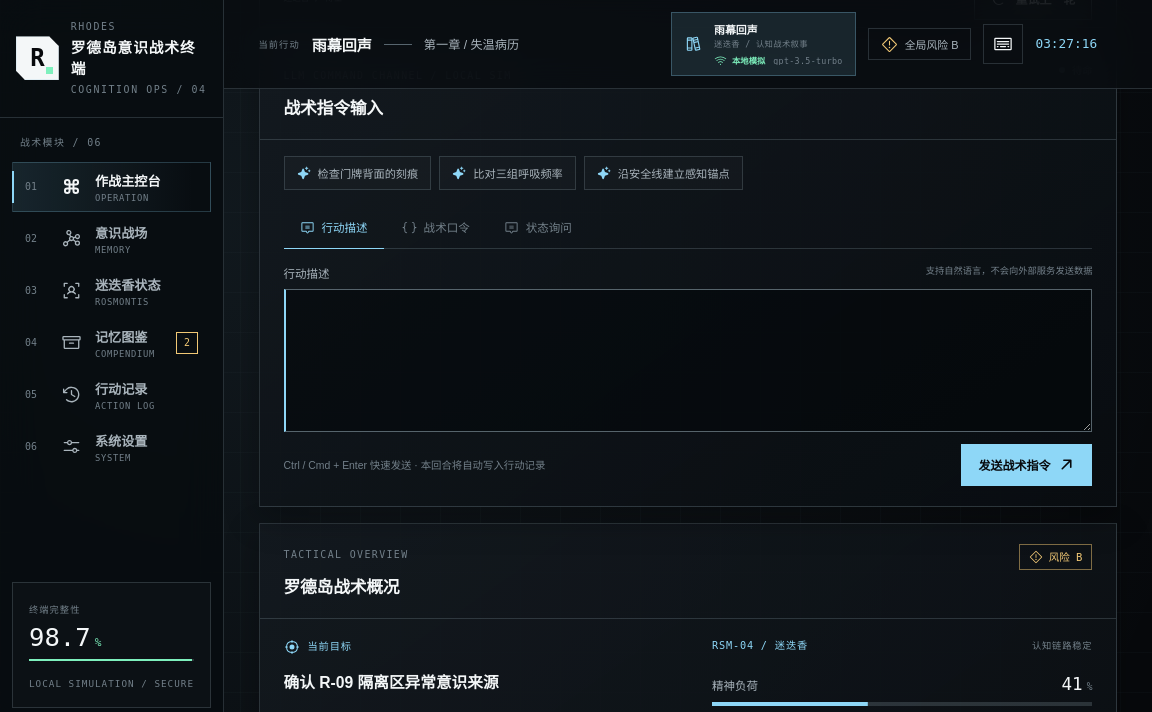
Test: executes a recognized local command and recovers from an unknown command without guessing
The image size is (1152, 712).
(page scrolled)
Type "命令巨剑进入守望阵位" into the text box named "战术指令" at (688,361), box [284, 289, 1092, 432]
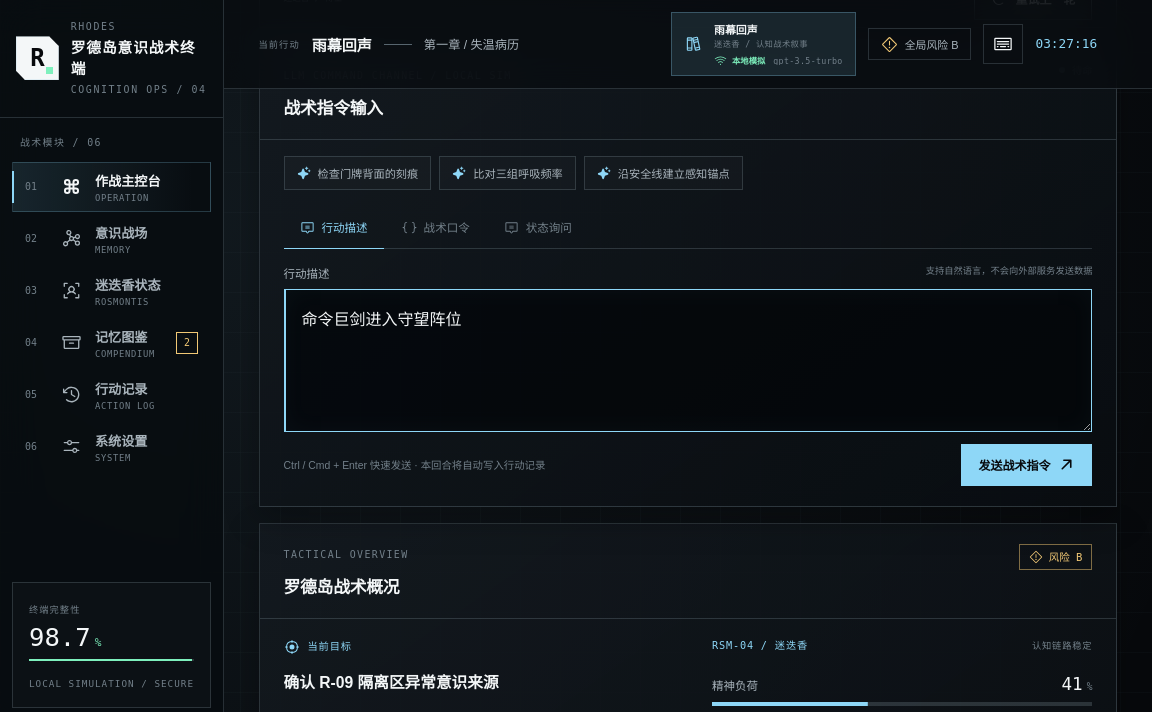
Click the button "发送战术指令" at (1027,465), box [961, 444, 1092, 486]
(page scrolled)
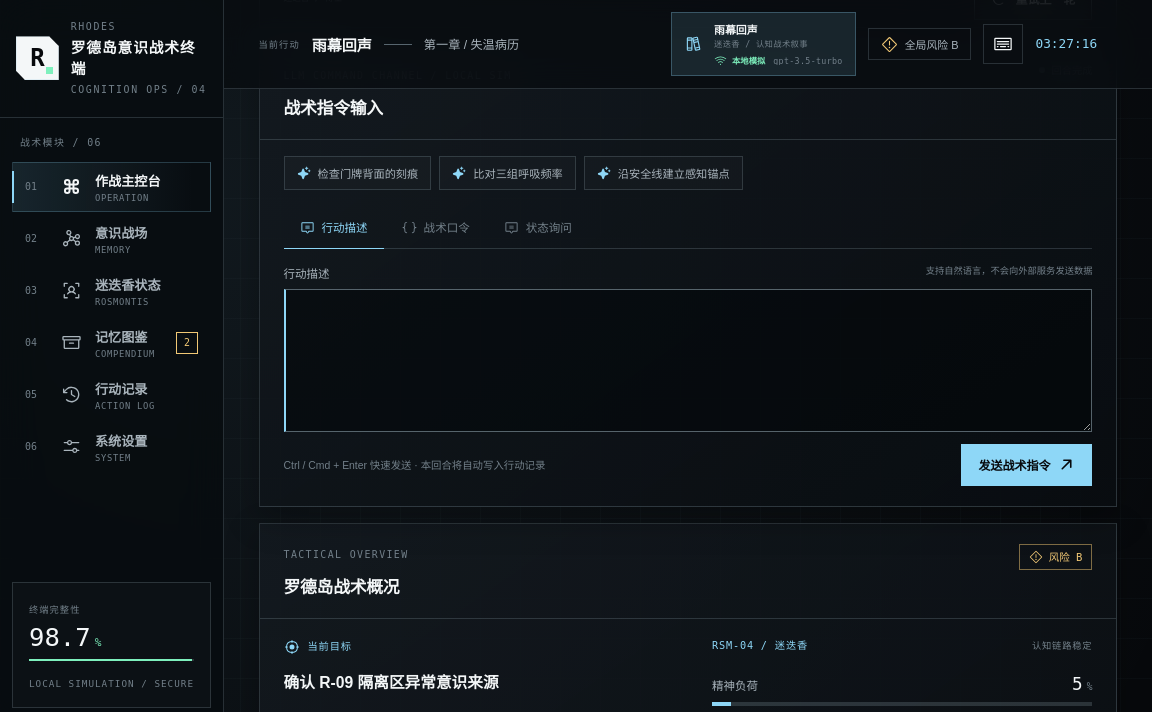
Type "向不存在的月亮唱歌" into the text box named "战术指令" at (688,361), box [284, 289, 1092, 432]
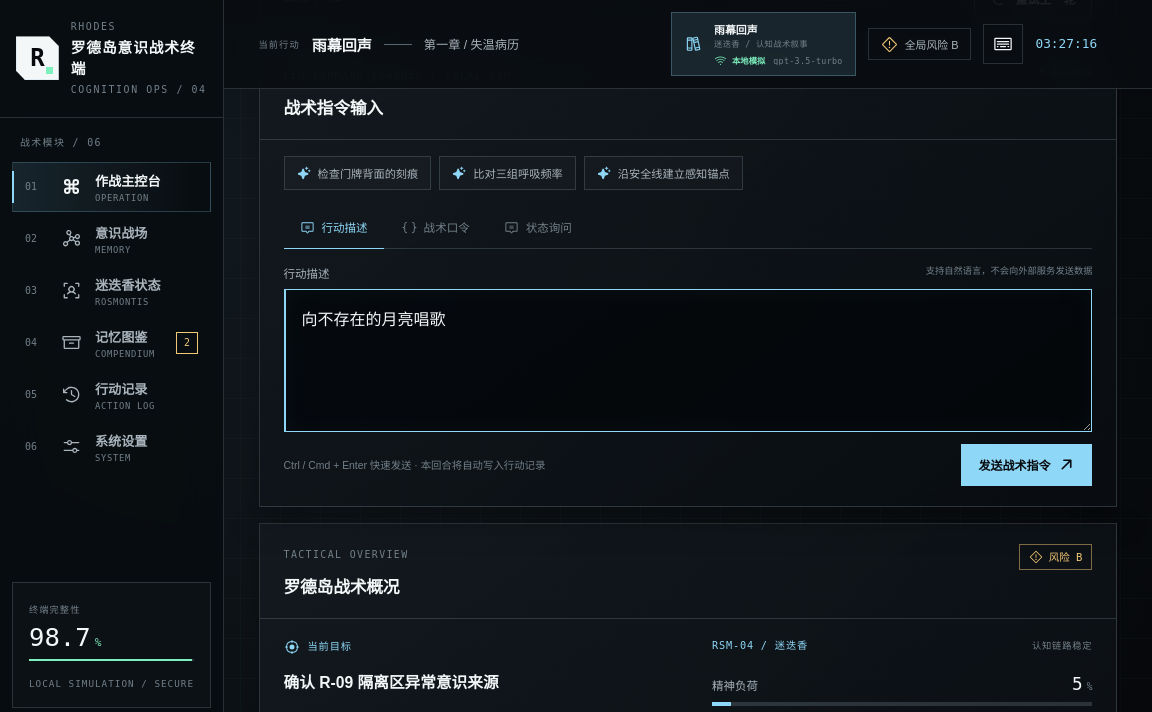
Click the button "发送战术指令" at (1027,465), box [961, 444, 1092, 486]
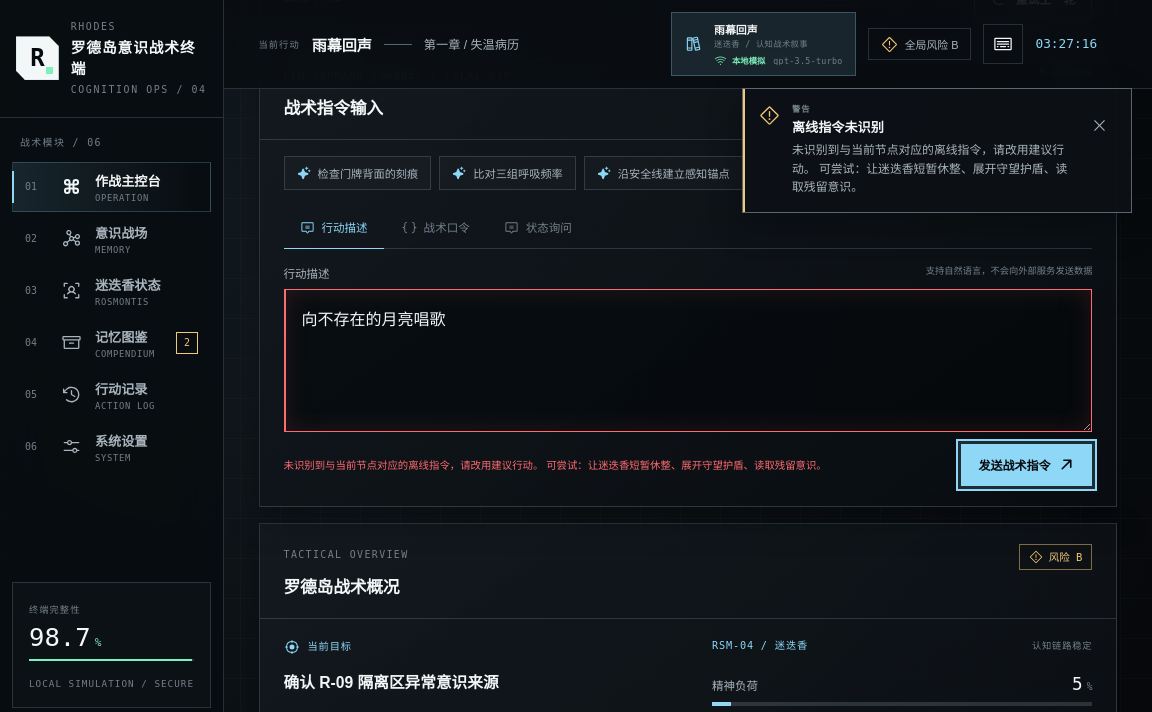
Check: the element named "警告：离线指令未识别" shows "让迷迭香短暂休整", box [792, 143, 1067, 194]
